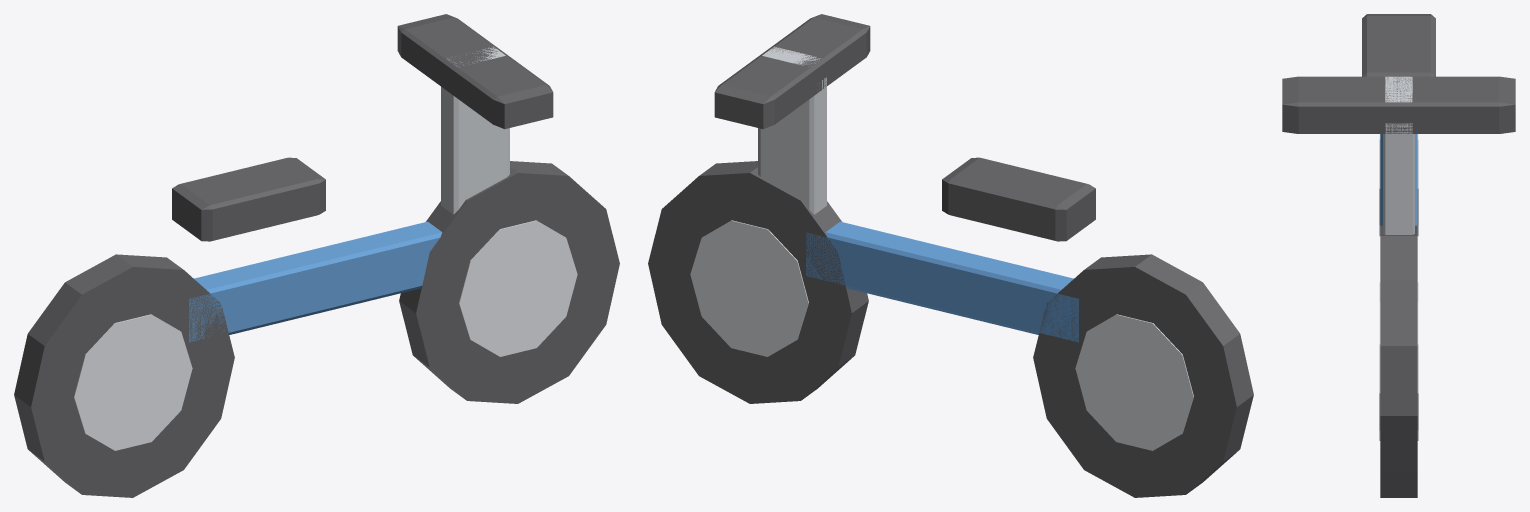
File: b03_suspension_mountain_bicycle.glb
3 views of the same model, side by side, from view 1: azimuth 30°, elevation 25°; view 2: azimuth 150°, elevation 25°; view 3: azimuth 270°, elevation 25° (orthographic). The views are drawn at different scales.
Visible parts, largest first — view 1: b03_suspension_mountain_bicycle; view 2: b03_suspension_mountain_bicycle; view 3: b03_suspension_mountain_bicycle.
Boxes of the visible parts, bbox=[...] form: b03_suspension_mountain_bicycle: bbox=[14, 14, 619, 497]; b03_suspension_mountain_bicycle: bbox=[648, 14, 1253, 497]; b03_suspension_mountain_bicycle: bbox=[1282, 14, 1515, 497].
Size of the model in its own units: 1.81 by 1.02 by 0.57.
